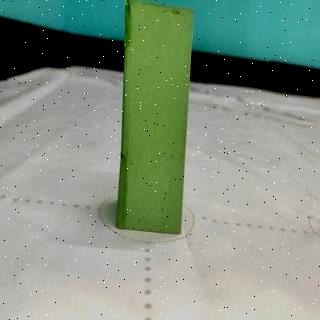greenbox: (118, 0, 194, 235)
